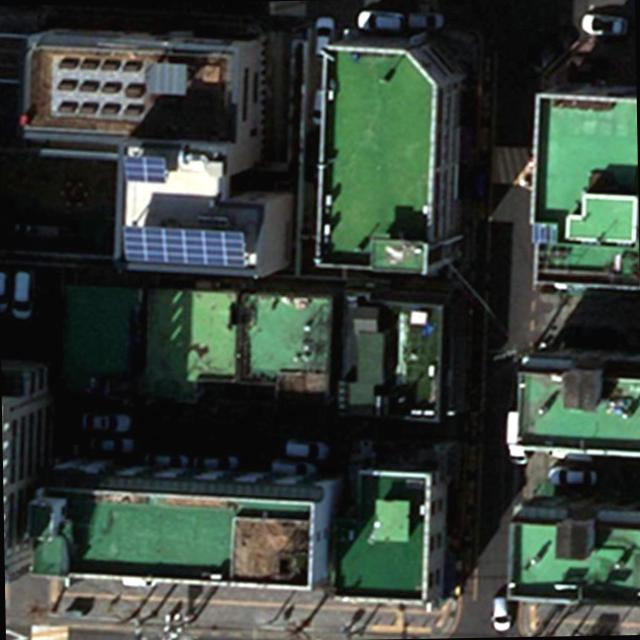solar: (119, 222, 250, 266), (122, 150, 168, 187)
